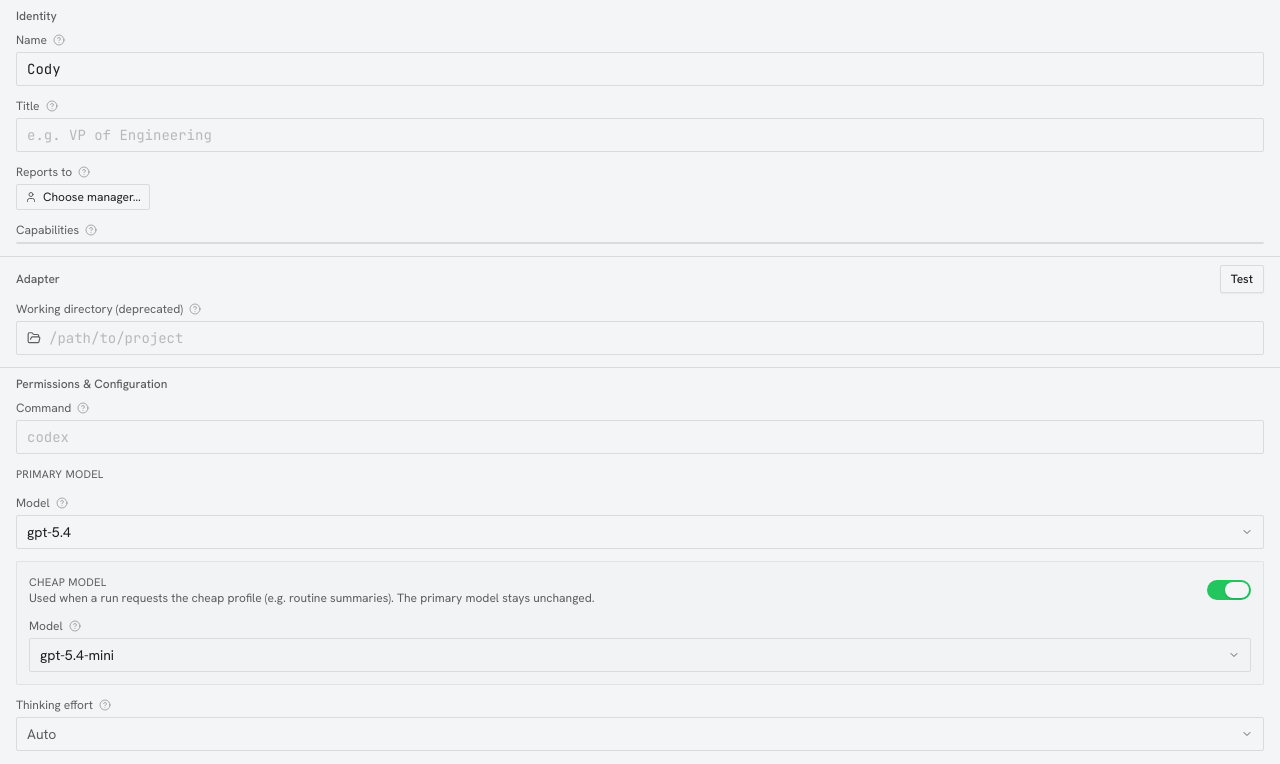
Test case: AgentConfigForm environment selector › surfaces request failures instead of converting them into model test checks
Step 1. Click the button "Test" → (1242, 279), box [1220,265,1264,293]
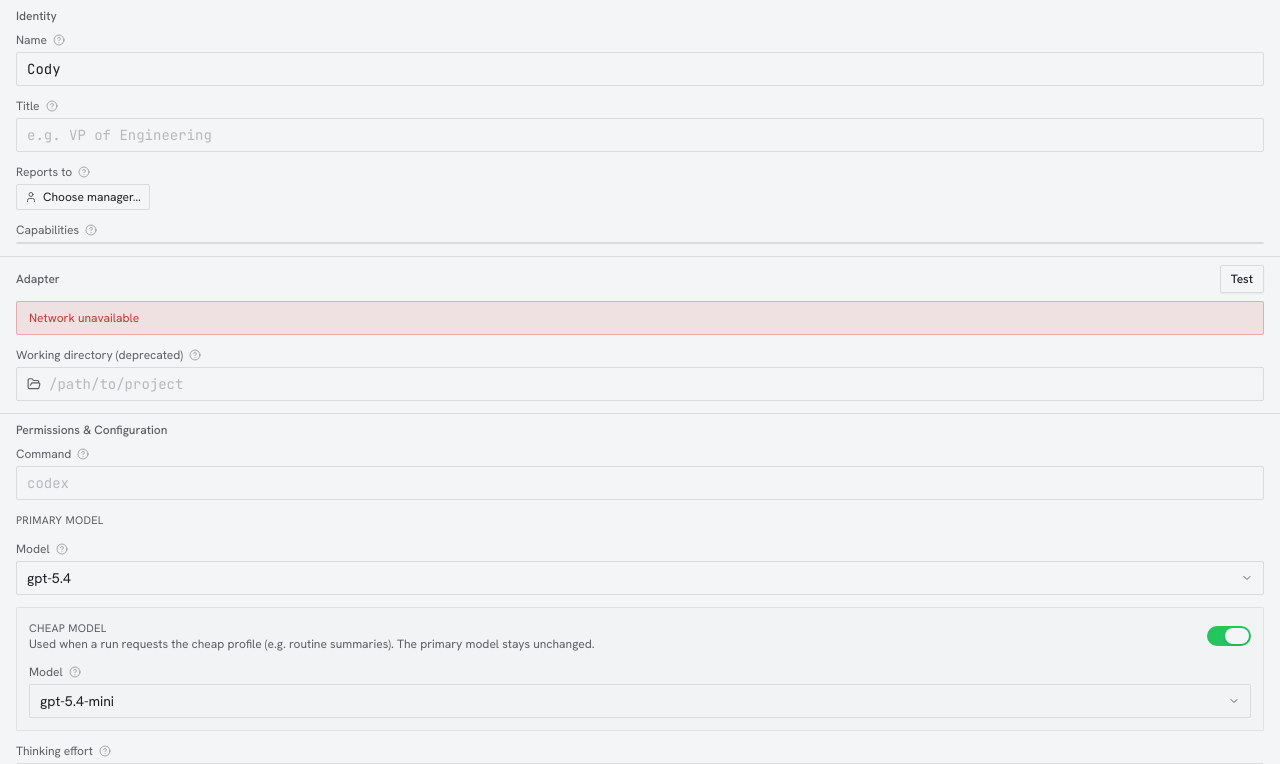
expect the text "Network unavailable" is shown: met, box [16,301,1264,335]
